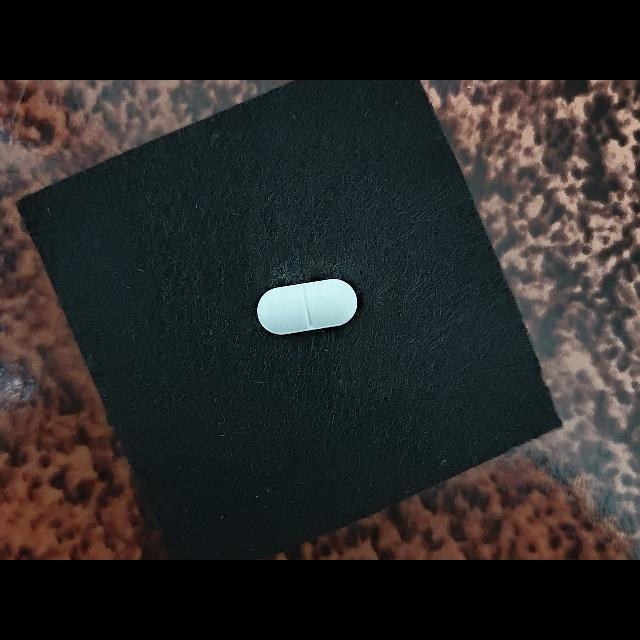Intact Pill: (257, 279, 357, 335)
